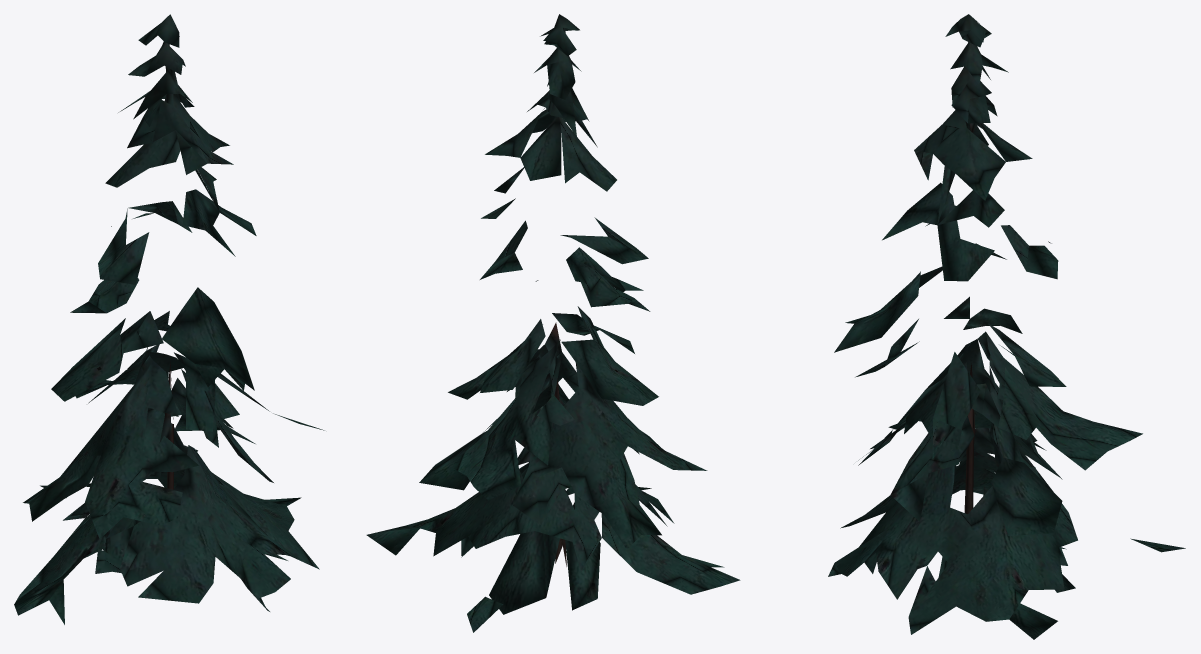
Rendered from tree-2.glb.
The picture shows the model from 3 angles, left to right: view 1: azimuth 30°, elevation 25°; view 2: azimuth 150°, elevation 25°; view 3: azimuth 270°, elevation 25°; orthographic projection. The views are drawn at different scales.
Visible parts, largest first — view 1: geometry_0; view 2: geometry_0; view 3: geometry_0.
Boxes of the visible parts, x1,y1,x2,y2 form: geometry_0: (14,14,324,624); geometry_0: (366,14,740,632); geometry_0: (828,14,1185,639).
Bounding box in the file's own units: 0.5397 × 0.902 × 0.5875.
Materials: 1 (1 with a texture image).
